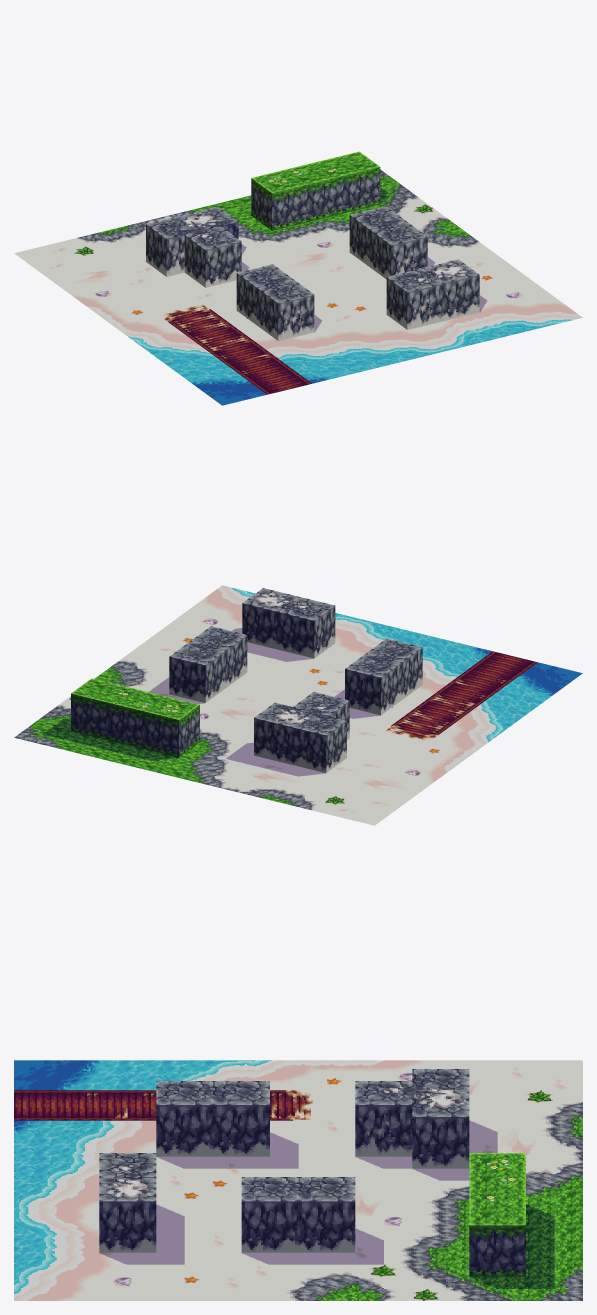
File: emerald_beach.glb
3 views of the same model, one above another, from view 1: azimuth 30°, elevation 25°; view 2: azimuth 150°, elevation 25°; view 3: azimuth 270°, elevation 25° (orthographic). The views are drawn at different scales.
Visible parts, largest first — view 1: EB_Ground-col, EB_Blocks-col; view 2: EB_Ground-col, EB_Blocks-col; view 3: EB_Ground-col, EB_Blocks-col.
Part boxes in pixels (<box>): EB_Ground-col: <box>14,169,582,405</box>; EB_Blocks-col: <box>146,151,479,340</box>; EB_Ground-col: <box>14,585,582,825</box>; EB_Blocks-col: <box>71,588,422,772</box>; EB_Ground-col: <box>14,1060,582,1300</box>; EB_Blocks-col: <box>99,1069,525,1276</box>.
Size of the model in its own units: 5 by 2 by 5.
2 materials, 1 textured.
